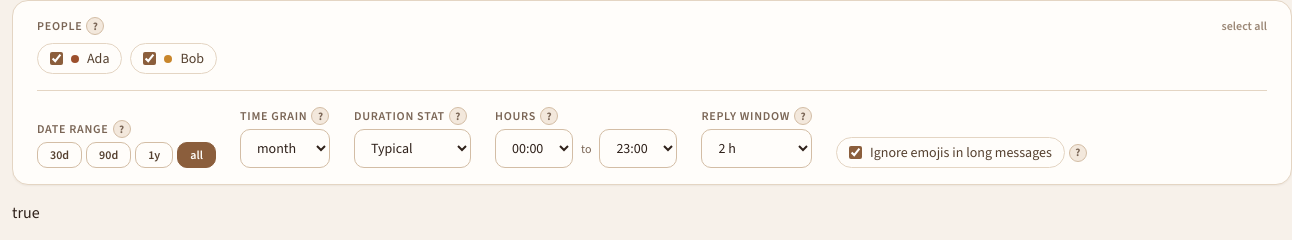
Test: FilterBar › offers the emoji-strip toggle on by default and turns it off
Expected: the text with test id "strip" reads "true", [12,202,40,223]
Step 1. Click the checkbox labelled "Ignore emojis in long messages" → click(856, 152), box [849,146,862,159]
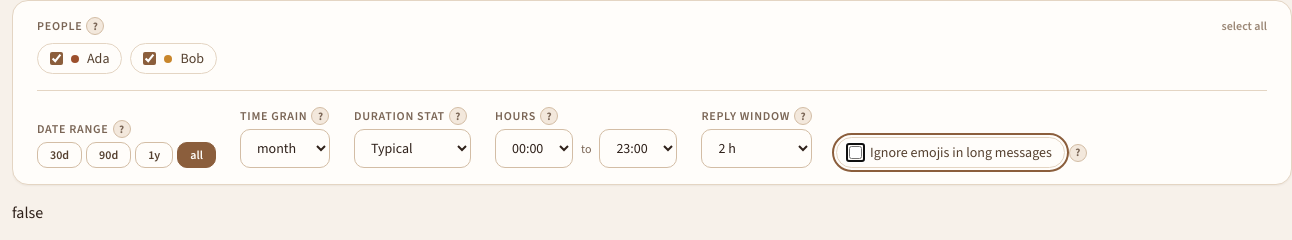
Result: the text with test id "strip" reads "false" at [12,202,43,223]
